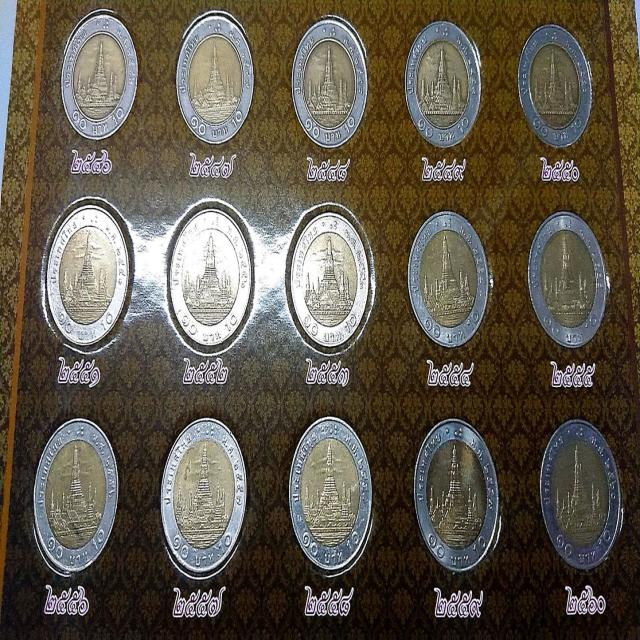10 Bath: (159, 417, 248, 580), (32, 419, 122, 576), (289, 418, 375, 579), (415, 420, 502, 577), (541, 421, 625, 572), (169, 207, 253, 355), (289, 211, 373, 356), (407, 211, 492, 352), (47, 207, 131, 349), (290, 13, 371, 152), (528, 212, 609, 350), (176, 9, 256, 146), (60, 9, 141, 144), (405, 16, 484, 154), (518, 24, 595, 152)
